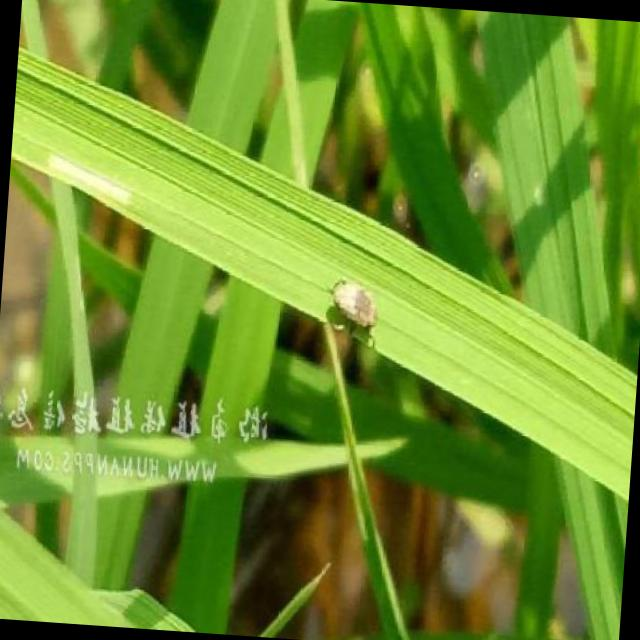rice-bug: (322, 274, 382, 344)
